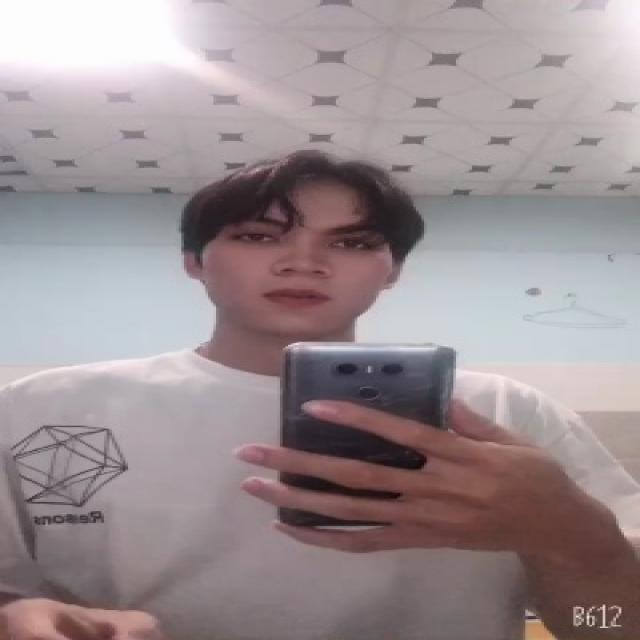Phone: (277, 341, 458, 536)
